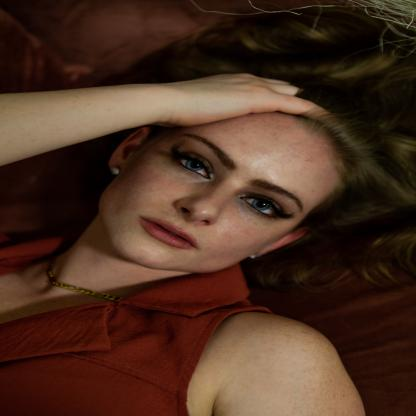Eye: (238, 192, 294, 220), (170, 146, 213, 181)
Mouth: (139, 214, 198, 250)
Nose: (176, 184, 236, 225)
